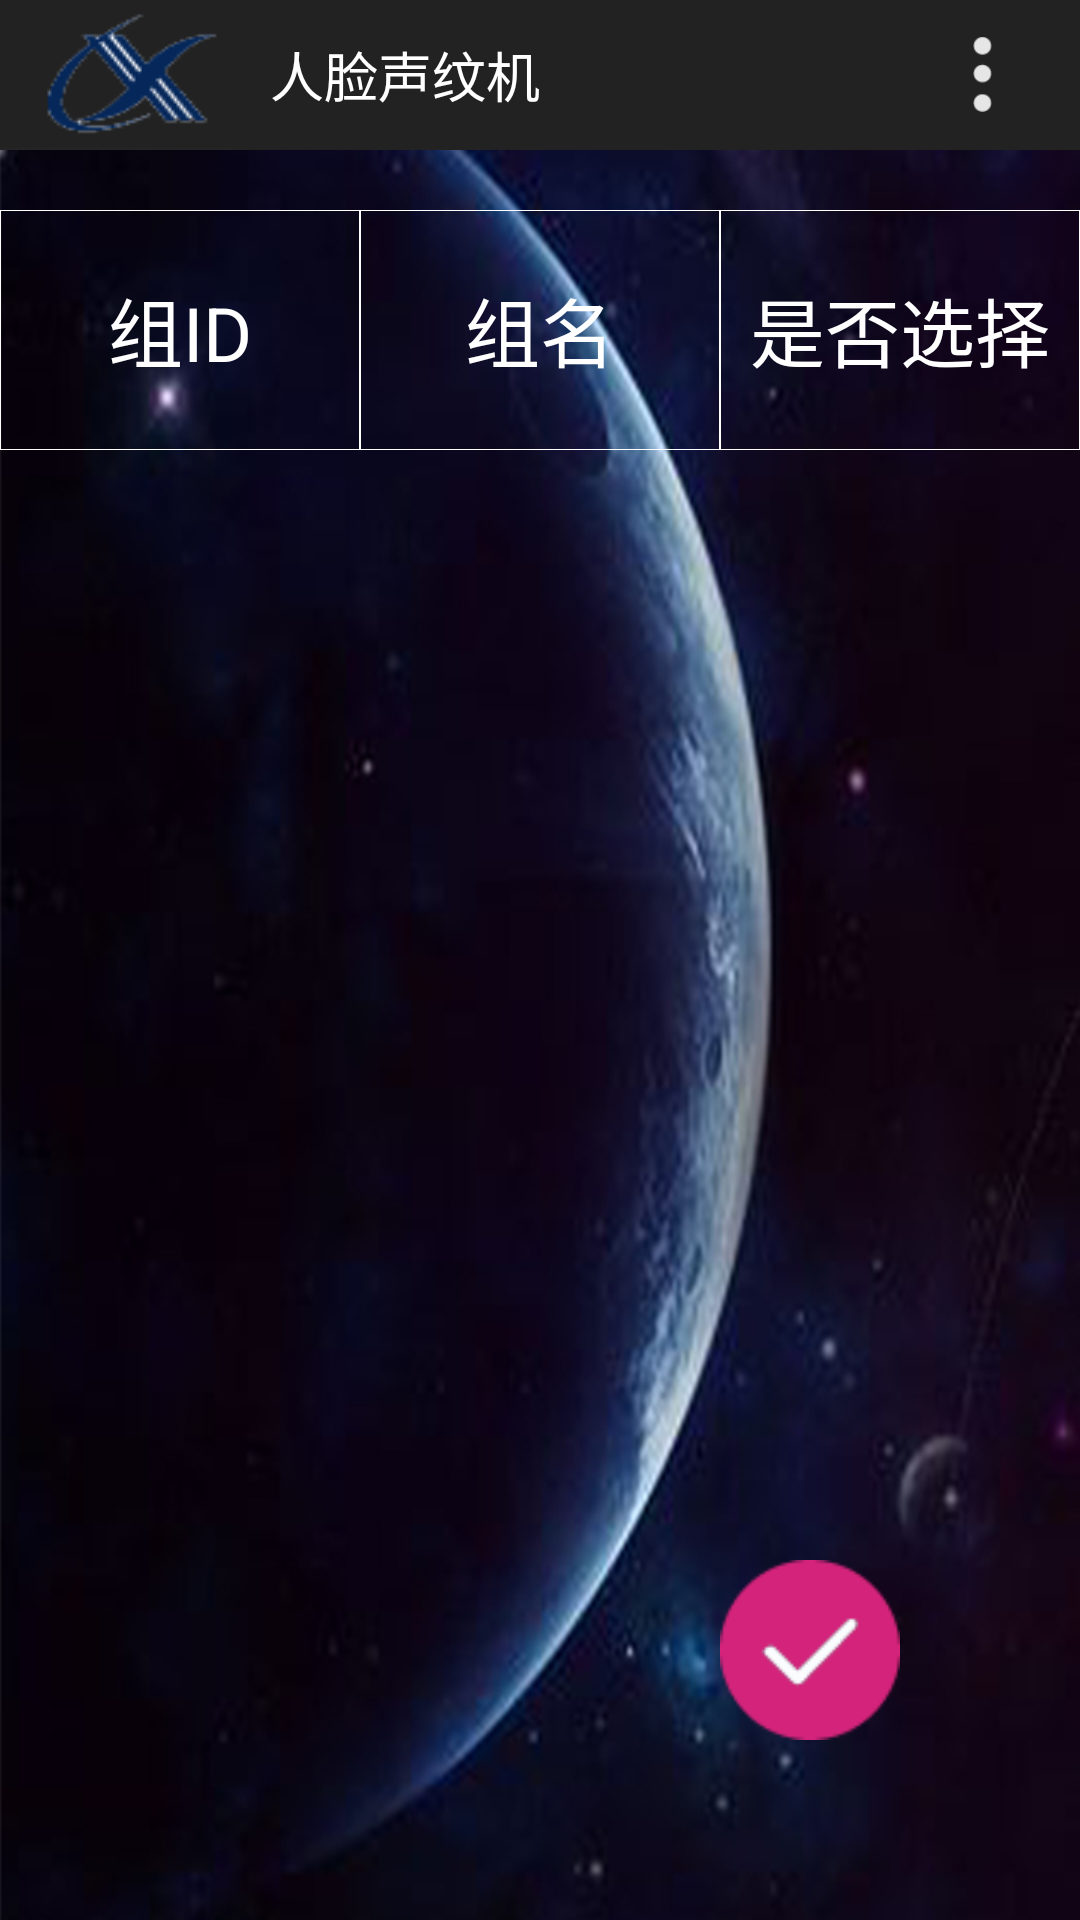

Where icons sit on this 1080×1920 app screen, as (x1=x1, y1=y1, x2=x2, y2=y2):
chooseall: (x1=720, y1=1560, x2=900, y2=1740)
more: (x1=973, y1=37, x2=992, y2=112)
